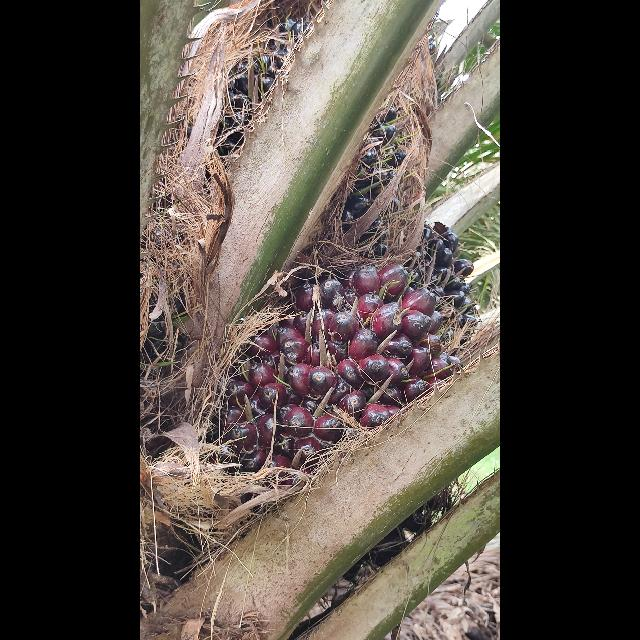Ripe: (217, 263, 463, 490)
